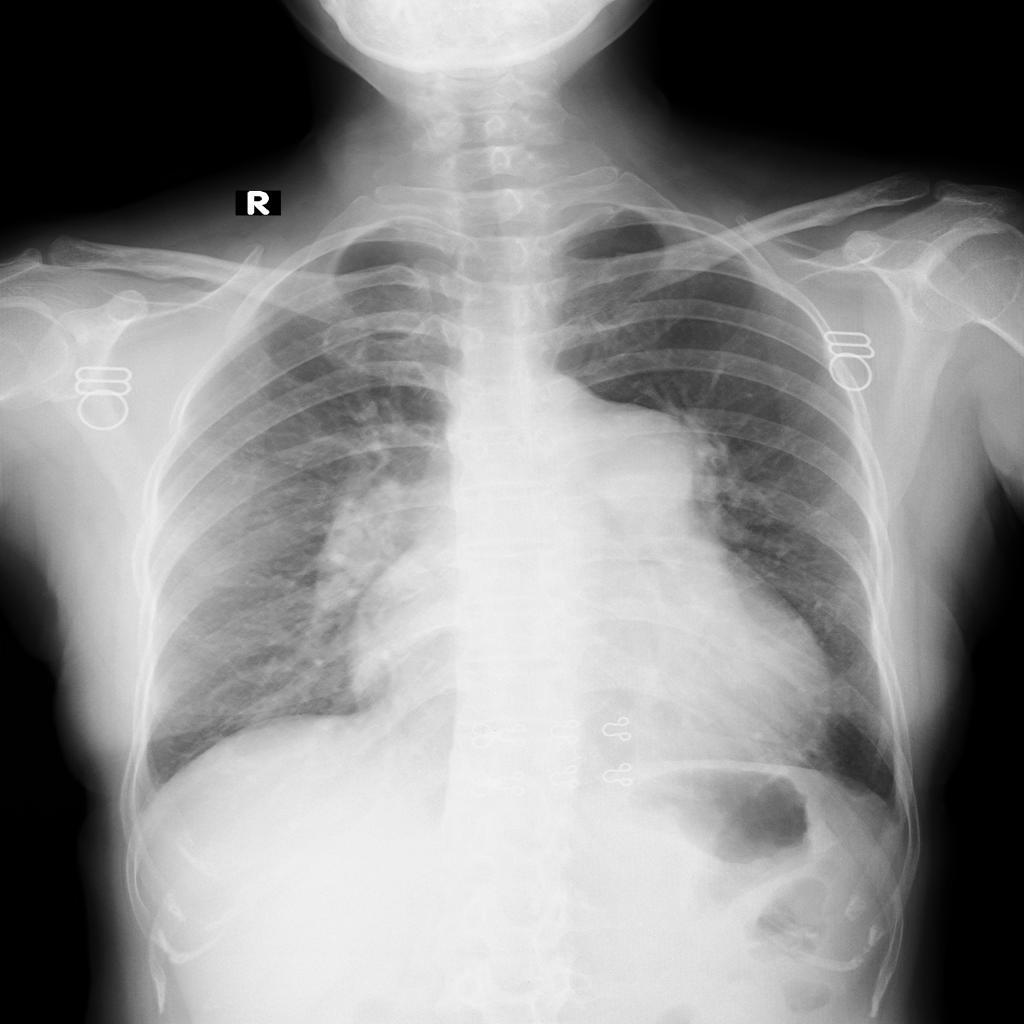Nodule: (562, 405, 696, 521)
